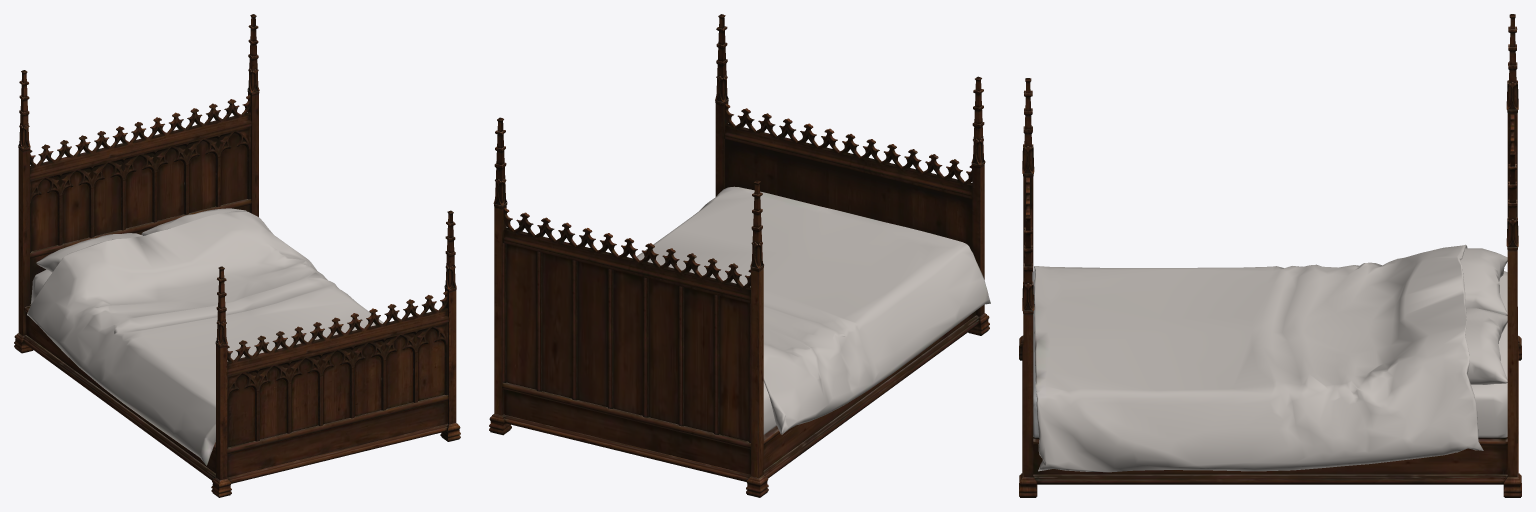
Rendered from GothicBed_01.glb.
3 views of the same model, side by side, from view 1: azimuth 30°, elevation 25°; view 2: azimuth 150°, elevation 25°; view 3: azimuth 270°, elevation 25° (orthographic). The views are drawn at different scales.
Parts seen in each view (by area): view 1: GothicBed_01; view 2: GothicBed_01; view 3: GothicBed_01.
Part boxes in pixels (x1=…): GothicBed_01: x1=14, y1=14, x2=460, y2=497; GothicBed_01: x1=489, y1=14, x2=990, y2=497; GothicBed_01: x1=1019, y1=14, x2=1521, y2=497.
Size of the model in its own units: 1.49 by 1.53 by 2.04.
Materials: 1 (1 with a texture image).
